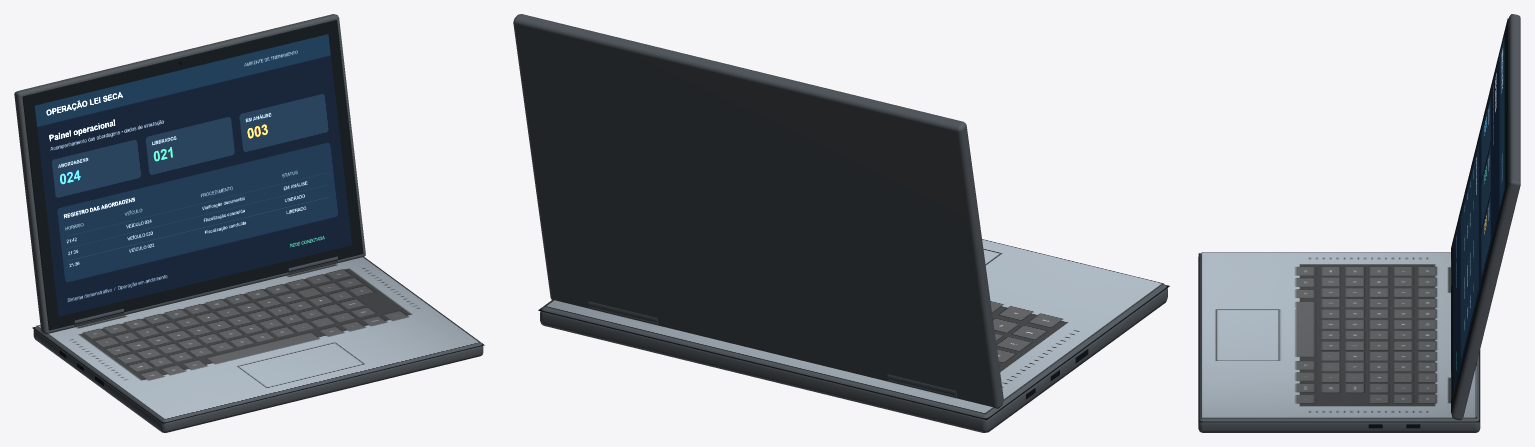
Rendered from notebook.glb.
The picture shows the model from 3 angles, left to right: view 1: azimuth 30°, elevation 25°; view 2: azimuth 150°, elevation 25°; view 3: azimuth 270°, elevation 25°; orthographic projection. The views are drawn at different scales.
Visible parts, largest first — view 1: Display LCD, Deck fotografado, Moldura preta, Carcaca da base, Tampa do laptop, Linha de uniao da base; view 2: Tampa do laptop, Deck fotografado, Carcaca da base, Linha de uniao da base; view 3: Deck fotografado, Display LCD, Tampa do laptop, Carcaca da base, Moldura preta, Linha de uniao da base.
Boxes of the visible parts, bbox=[...] form: Display LCD: bbox=[34, 34, 352, 316]; Deck fotografado: bbox=[36, 257, 479, 419]; Moldura preta: bbox=[22, 20, 363, 330]; Carcaca da base: bbox=[33, 257, 483, 432]; Tampa do laptop: bbox=[14, 14, 365, 334]; Linha de uniao da base: bbox=[32, 327, 484, 423]; Tampa do laptop: bbox=[513, 14, 1003, 408]; Deck fotografado: bbox=[544, 239, 1163, 413]; Carcaca da base: bbox=[540, 284, 1167, 432]; Linha de uniao da base: bbox=[538, 285, 1169, 419]; Deck fotografado: bbox=[1201, 252, 1476, 418]; Display LCD: bbox=[1453, 36, 1504, 395]; Tampa do laptop: bbox=[1451, 14, 1520, 420]; Carcaca da base: bbox=[1198, 253, 1480, 432]; Moldura preta: bbox=[1451, 18, 1508, 413]; Linha de uniao da base: bbox=[1198, 253, 1479, 422].
Bounding box in the file's own units: 0.3405 × 0.2377 × 0.2743.
6 materials, 2 textured.
